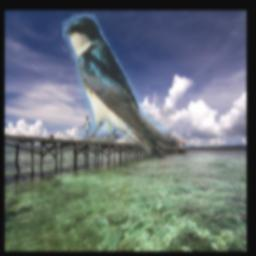Swallow: (62, 14, 179, 159)
